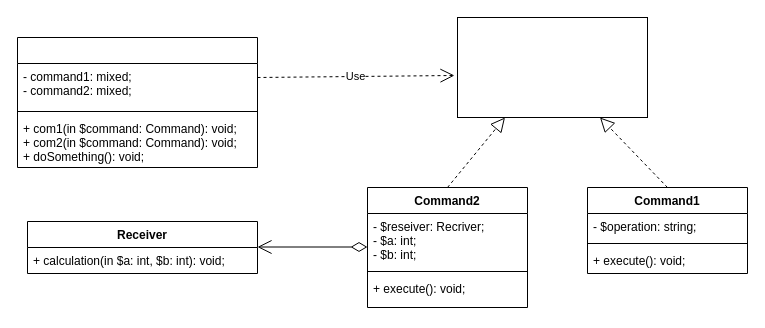
Some shapes in this 765 by 328 pixel diagram are drawn without their labels. Here are the shapes that lost their labels. From the top down, the box of each, then its label:
(456, 16, 648, 118): <<Interface>> Command + execute(): void;
(16, 36, 258, 168): Invoker
